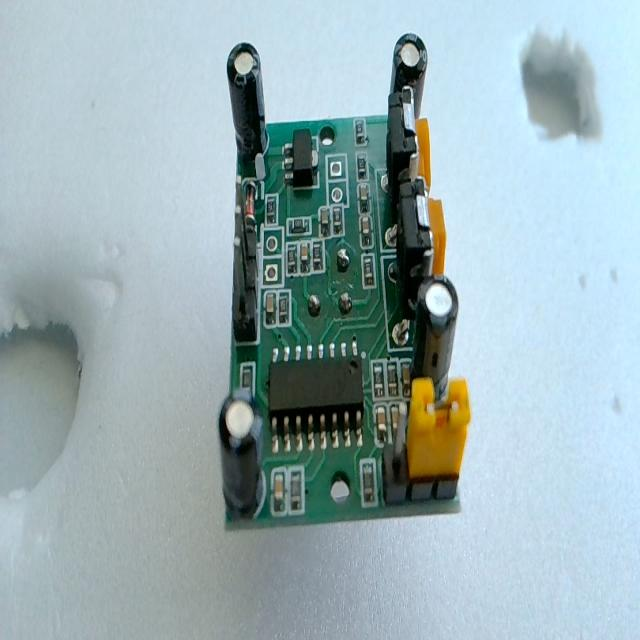Electrolytic capacitor: (407, 273, 461, 415), (217, 390, 266, 520), (226, 42, 268, 166), (390, 31, 428, 120)
IC: (266, 357, 364, 443)
diode: (418, 270, 418, 272)
pinheader: (387, 30, 437, 296), (225, 46, 269, 339)
